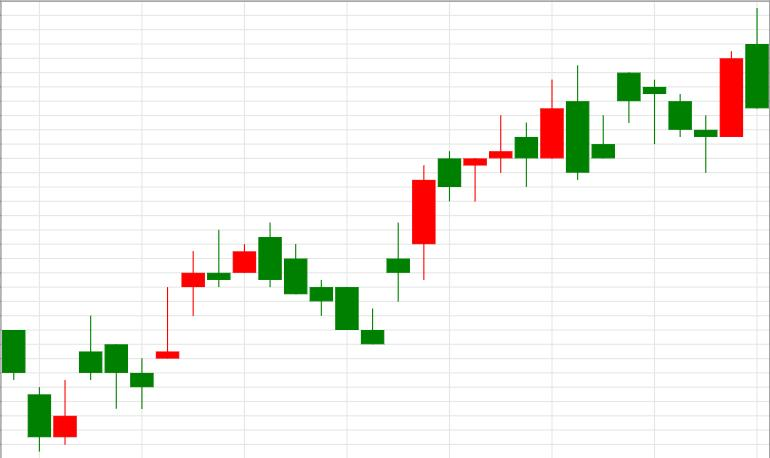bearish_engulfing_fall: (412, 64, 589, 280)
